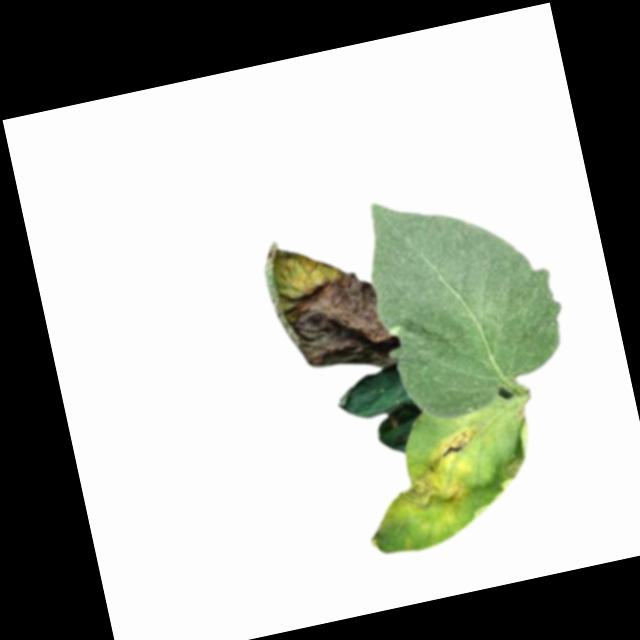Late_blight: (257, 219, 404, 389), (379, 423, 493, 524), (492, 453, 531, 491)
